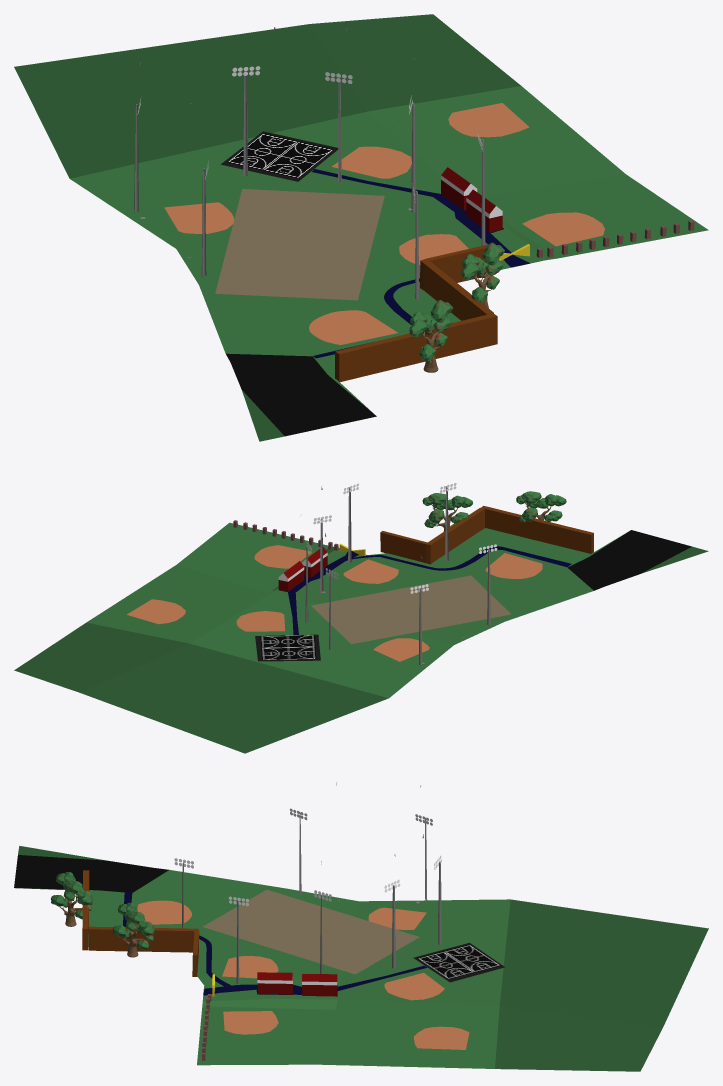
File: capefield18.glb
The picture shows the model from 3 angles, top to bottom: view 1: azimuth 30°, elevation 25°; view 2: azimuth 150°, elevation 25°; view 3: azimuth 270°, elevation 25°; orthographic projection. The views are drawn at different scales.
Visible parts, largest first — view 1: capefieldall.006, Cylinder.016, tree_Cube.002, tree_Cube.001; view 2: capefieldall.006, Cylinder.016, tree_Cube.001, tree_Cube.002; view 3: capefieldall.006, Cylinder.016, tree_Cube.001, tree_Cube.002.
Part boxes in pixels (left/top/right/bottom): capefieldall.006: left=14, top=14, right=708, bottom=441; Cylinder.016: left=134, top=66, right=485, bottom=299; tree_Cube.002: left=409, top=299, right=453, bottom=372; tree_Cube.001: left=461, top=242, right=504, bottom=308; capefieldall.006: left=14, top=486, right=708, bottom=753; Cylinder.016: left=305, top=483, right=497, bottom=665; tree_Cube.001: left=422, top=493, right=472, bottom=531; tree_Cube.002: left=516, top=491, right=566, bottom=522; capefieldall.006: left=14, top=782, right=708, bottom=1071; Cylinder.016: left=174, top=808, right=441, bottom=983; tree_Cube.001: left=112, top=902, right=154, bottom=957; tree_Cube.002: left=51, top=872, right=92, bottom=926.
Bounding box in the file's own units: 0.3737 × 0.1011 × 0.508.
Materials: 15 (1 with a texture image).
